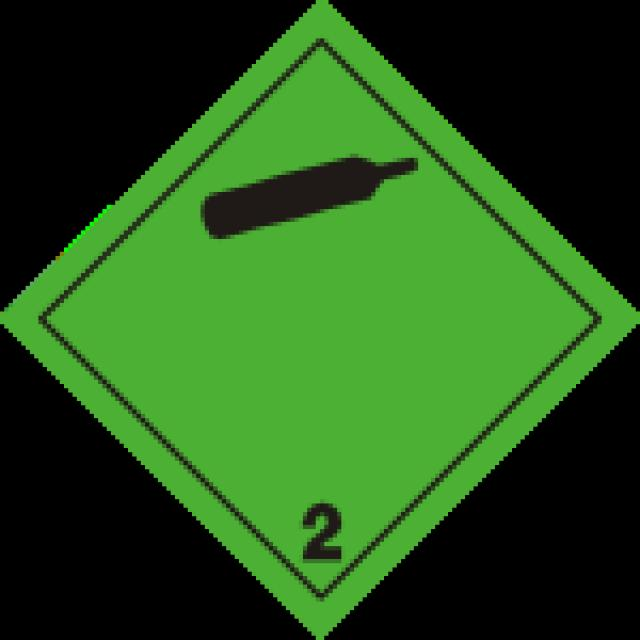Division 2-2: (4, 4, 640, 640)
